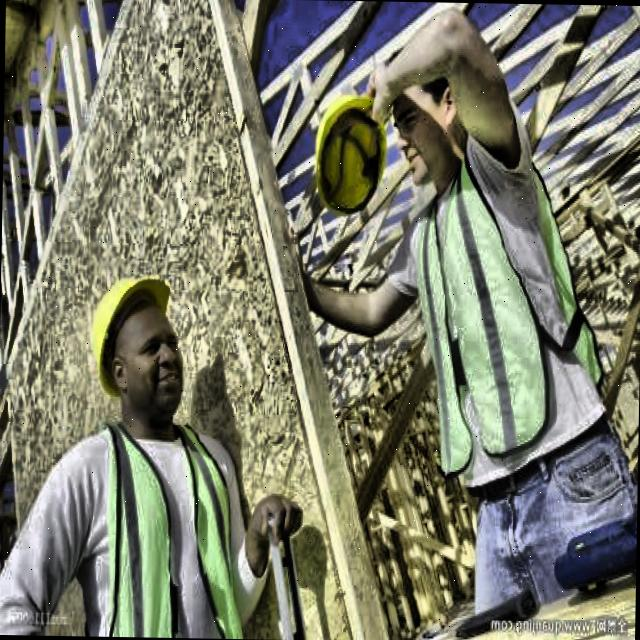helmet: (88, 240, 195, 442)
